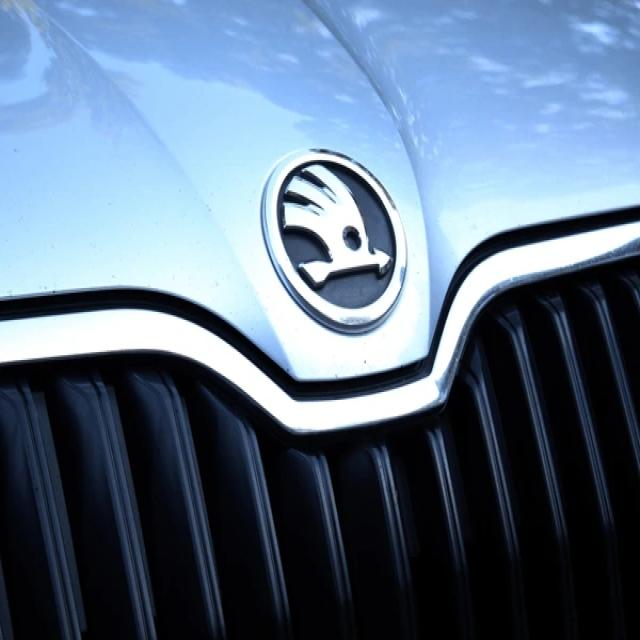skoda: (240, 145, 435, 328)
